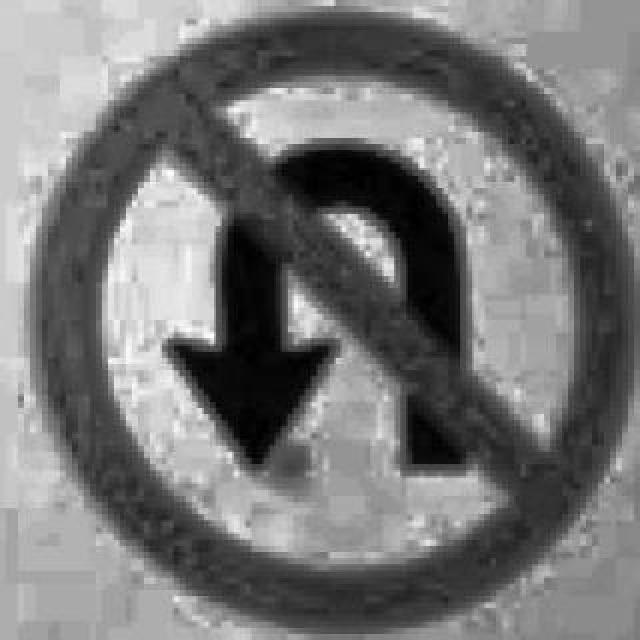no u turn: (24, 0, 634, 634)
